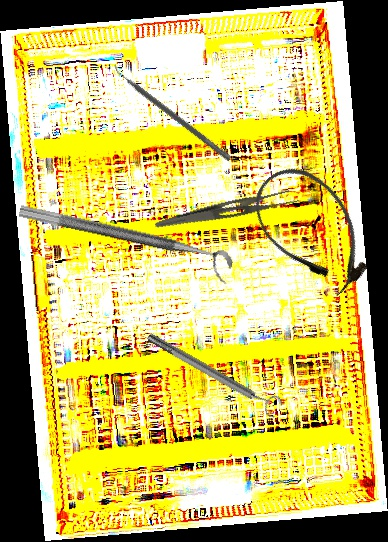Cannula: (239, 151, 386, 308)
Dressing Forceps: (153, 181, 303, 244)
Fixation Ring: (14, 203, 235, 285), (143, 325, 285, 421)
Spatula Surgical: (109, 61, 236, 162)
